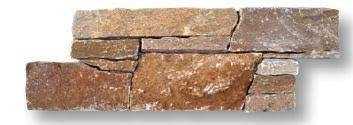obstacle: (26, 8, 339, 111)
